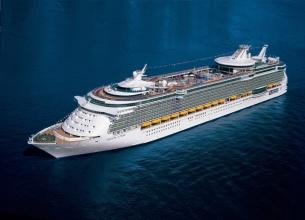youlun: (23, 40, 291, 165)
